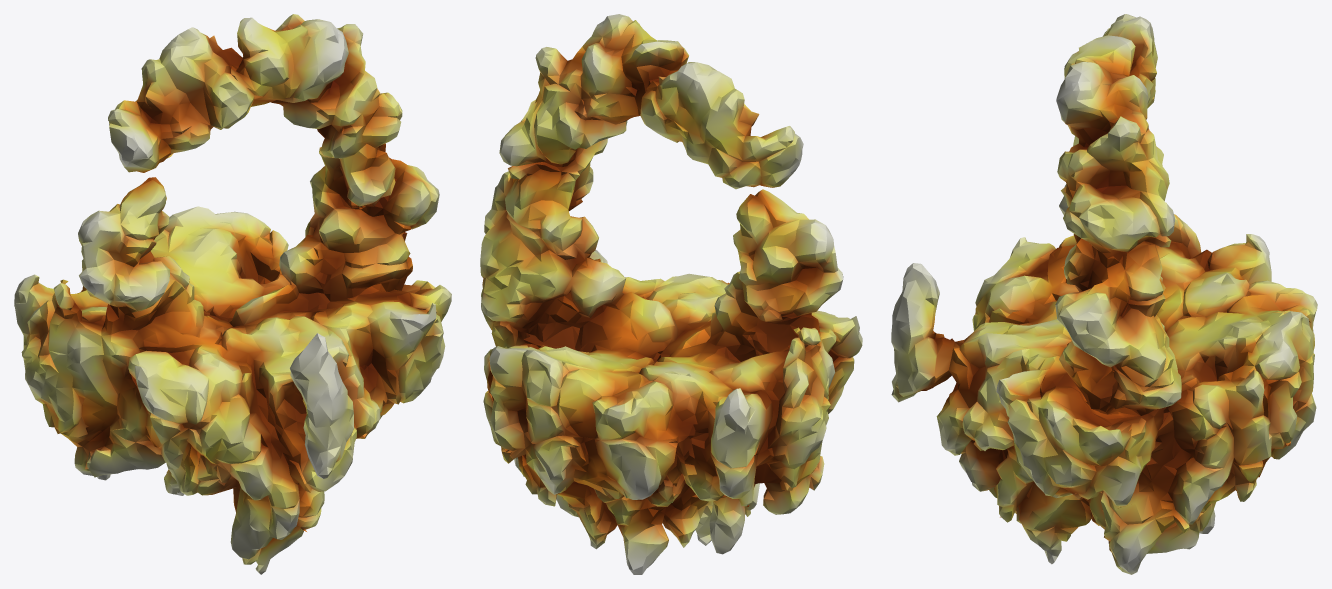
The model's file is Stylised_floating_05_mesh.fbx.
3 renders of one model, left to right at view 1: azimuth 30°, elevation 25°; view 2: azimuth 150°, elevation 25°; view 3: azimuth 270°, elevation 25°, orthographic. The views are drawn at different scales.
Visible parts, largest first — view 1: attribdelete3; view 2: attribdelete3; view 3: attribdelete3.
Boxes of the visible parts, box(x1,y1,x2,y2) form: attribdelete3: box(14, 14, 451, 574); attribdelete3: box(480, 14, 862, 574); attribdelete3: box(891, 14, 1317, 574).
Size of the model in its own units: 21.04 by 28.24 by 20.33.
